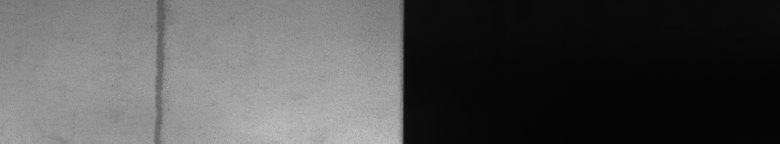hd: (148, 4, 168, 136)
